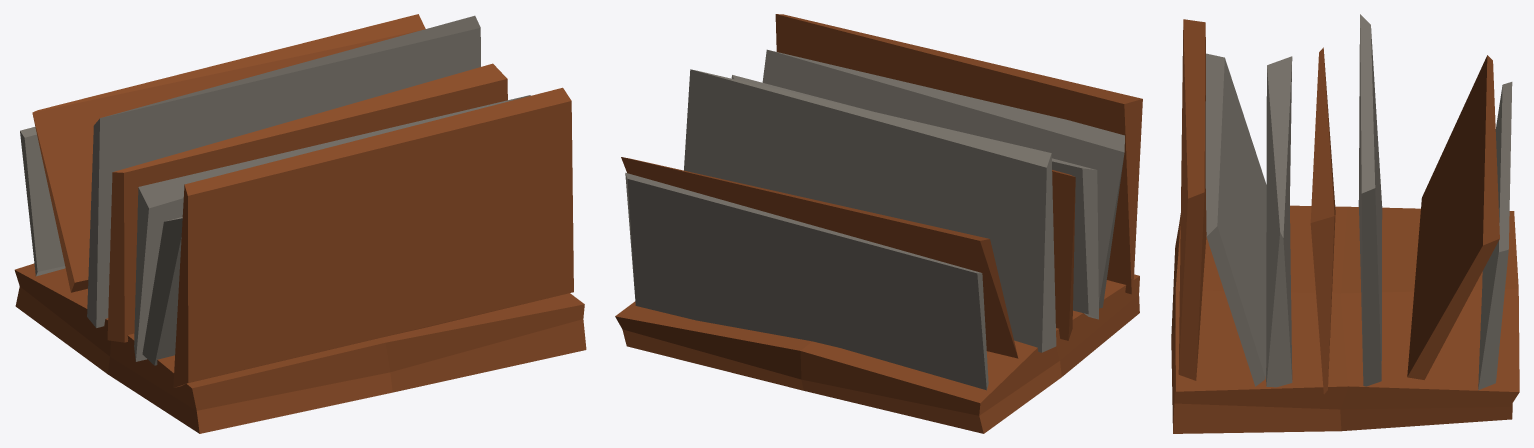
Rendered from heatsink_scrap.glb.
3 views of the same model, side by side, from view 1: azimuth 30°, elevation 25°; view 2: azimuth 150°, elevation 25°; view 3: azimuth 270°, elevation 25° (orthographic). The views are drawn at different scales.
Parts seen in each view (by area): view 1: heatsink_scrap; view 2: heatsink_scrap; view 3: heatsink_scrap.
Boxes of the visible parts, x1,y1,x2,y2 form: heatsink_scrap: (14,14,586,433); heatsink_scrap: (615,14,1142,433); heatsink_scrap: (1171,14,1519,433).
Bounding box in the file's own units: 0.2078 × 0.1277 × 0.1654.
